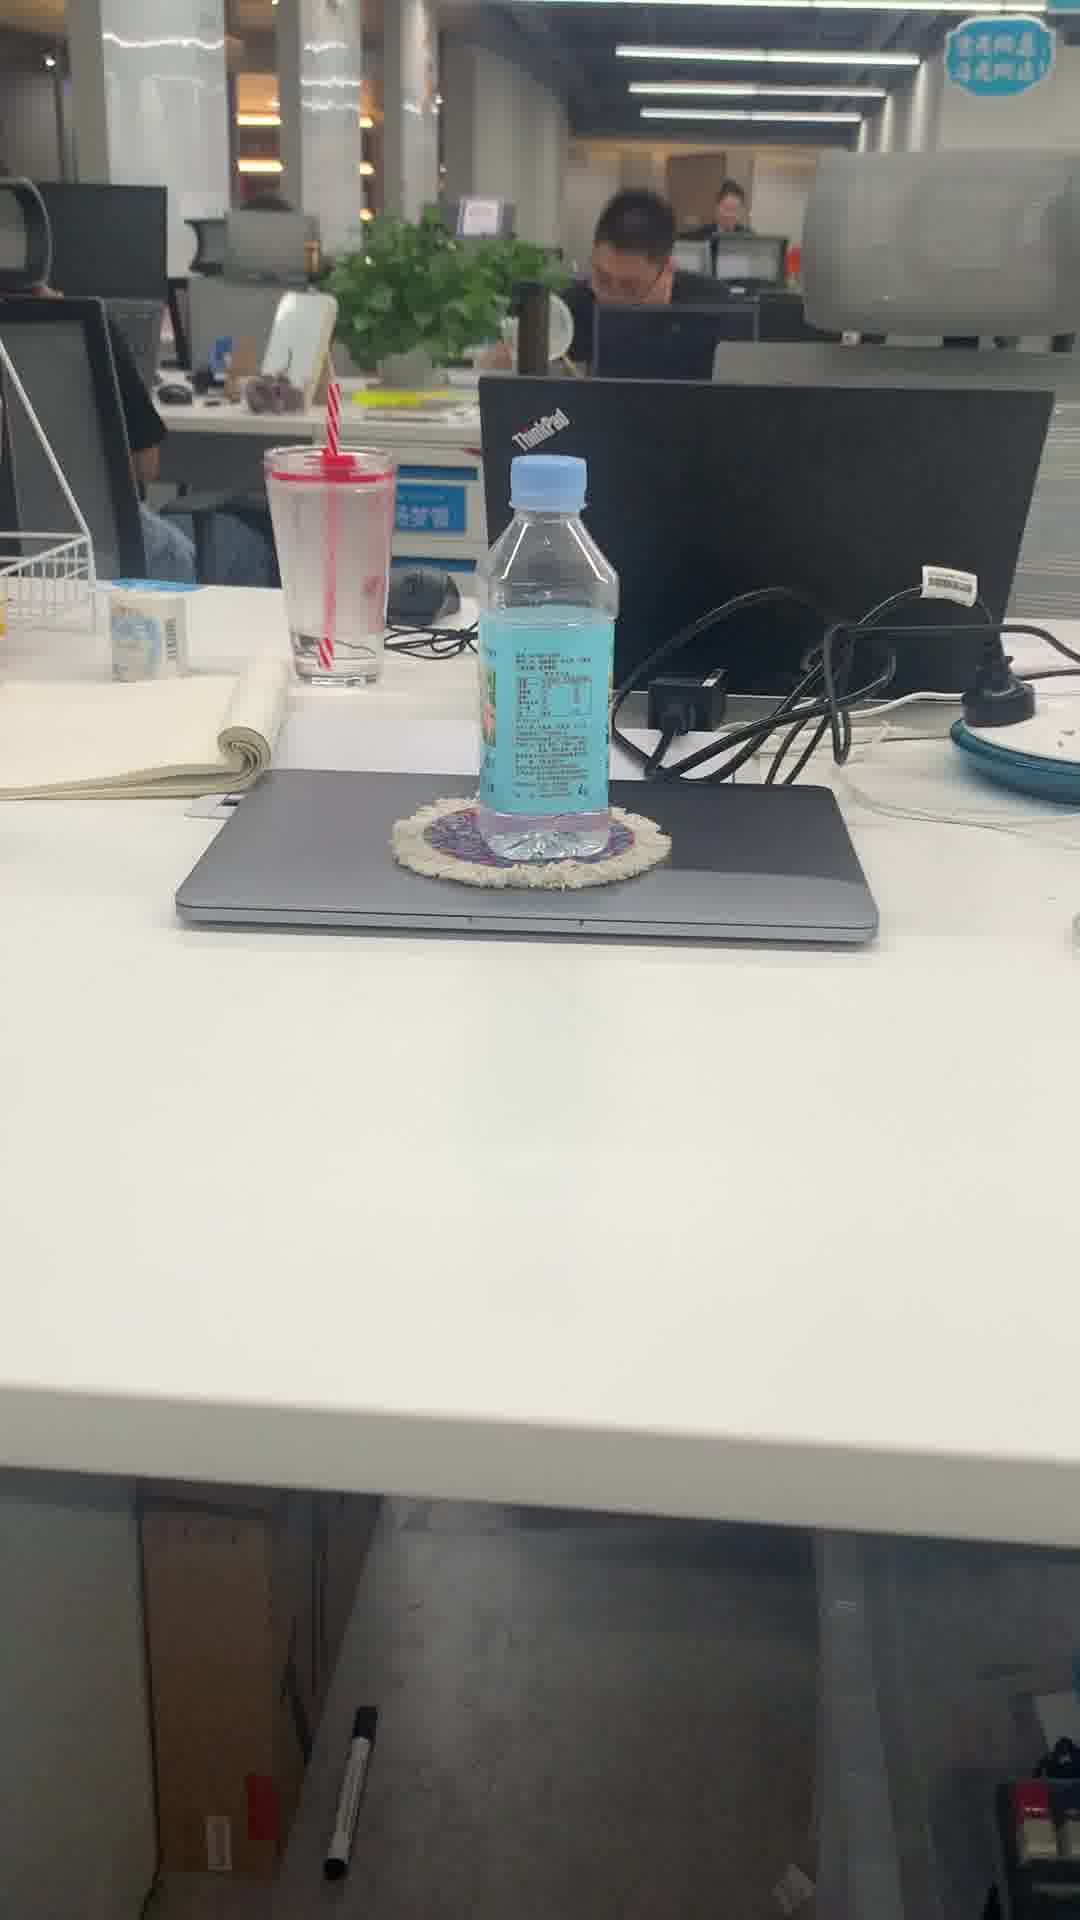水瓶: (469, 451, 626, 866)
